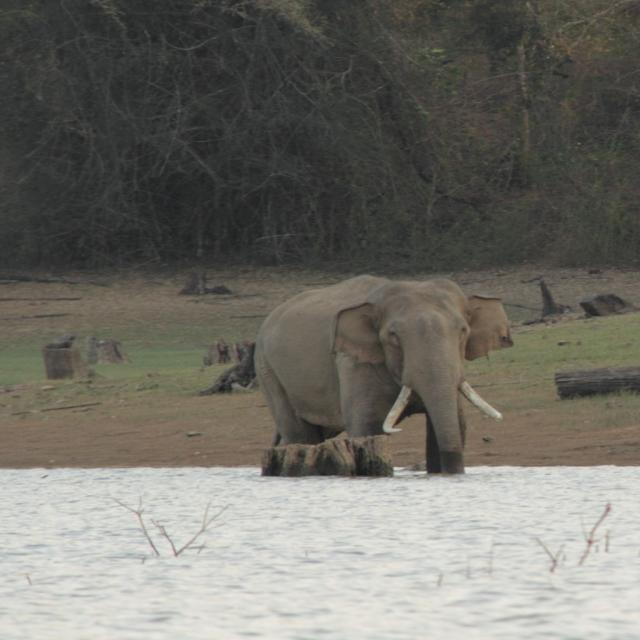Elephant: (252, 274, 514, 474)
